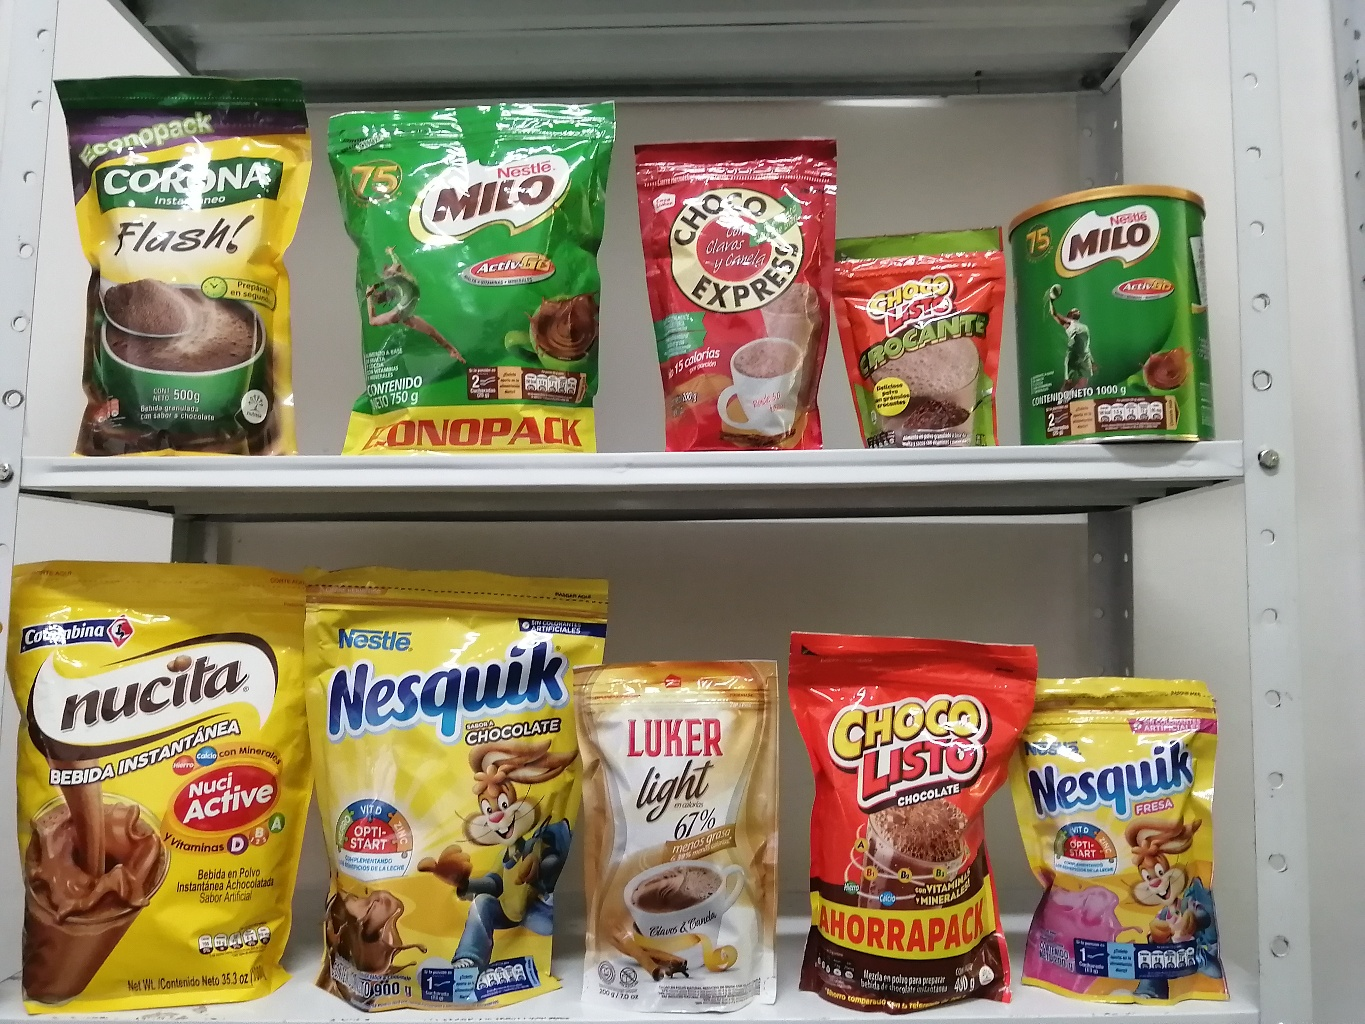COL0170102DYP10000: (829, 217, 1001, 439)
COL0170103DYP40000: (786, 625, 1039, 1013)
COL0170305DYP20000: (1015, 666, 1253, 1007)
